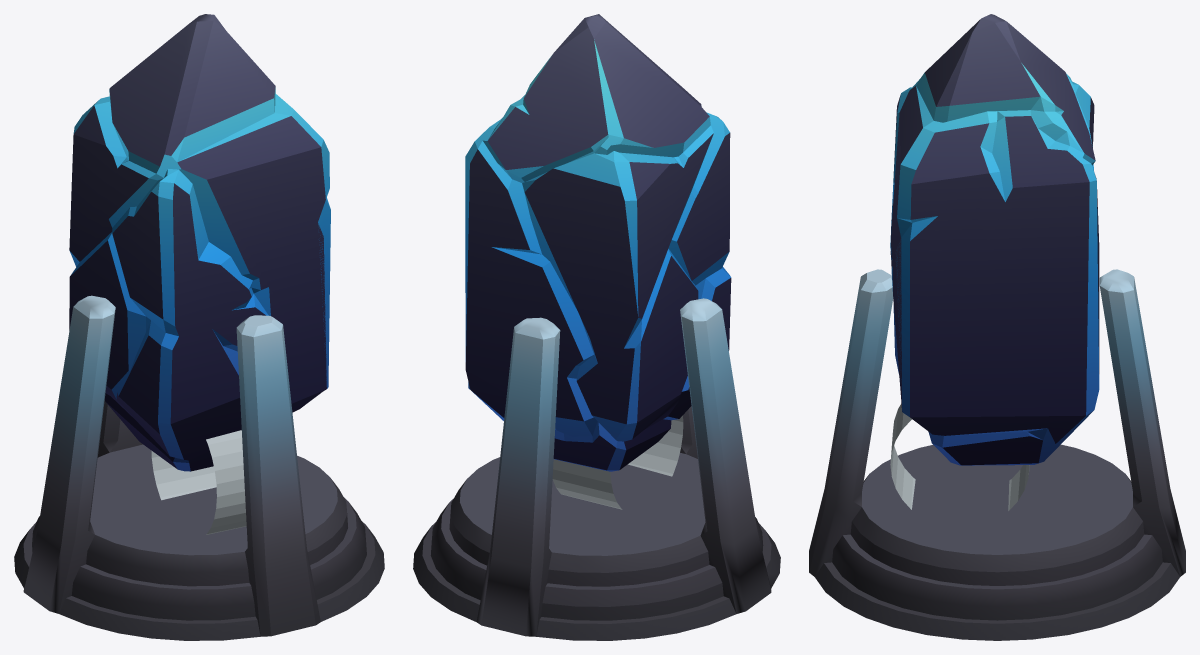
Rendered from obelisk.fbx.
3 views of the same model, side by side, from view 1: azimuth 30°, elevation 25°; view 2: azimuth 150°, elevation 25°; view 3: azimuth 270°, elevation 25° (orthographic).
Parts seen in each view (by area): view 1: obelisk_1_Low; view 2: obelisk_1_Low; view 3: obelisk_1_Low.
Boxes of the visible parts, left/top/right/bottom form: obelisk_1_Low: left=14, top=14, right=384, bottom=640; obelisk_1_Low: left=413, top=14, right=780, bottom=640; obelisk_1_Low: left=809, top=14, right=1185, bottom=640.
Bounding box in the file's own units: 2.76 × 4.47 × 2.78.
